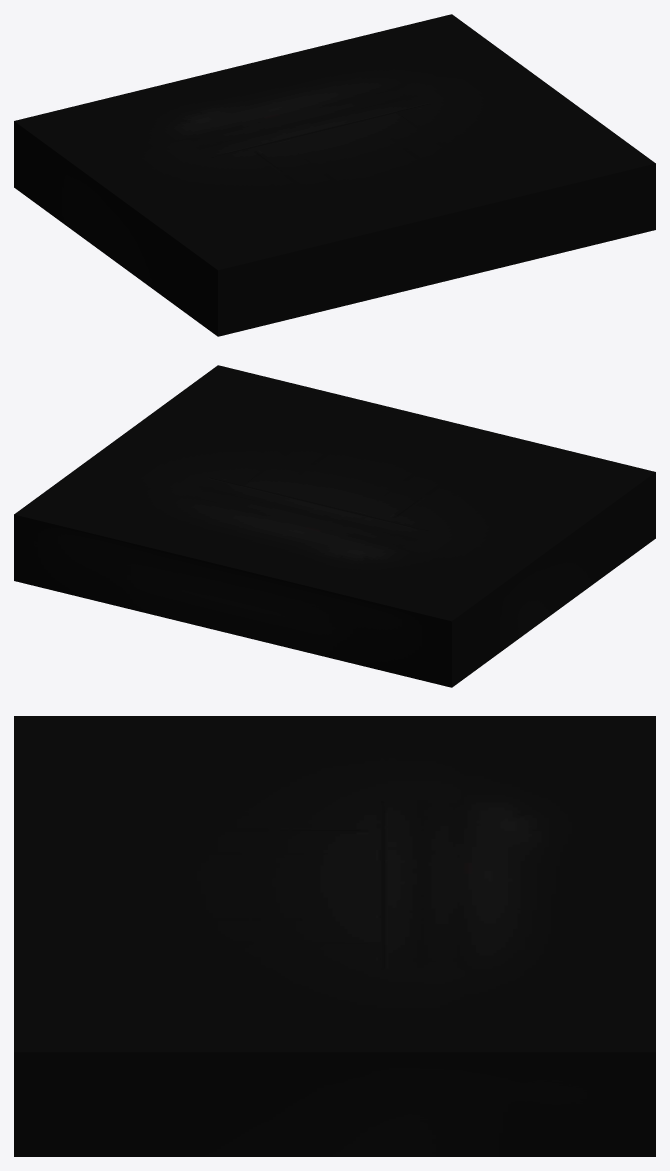
3 renders of one model, top to bottom at view 1: azimuth 30°, elevation 25°; view 2: azimuth 150°, elevation 25°; view 3: azimuth 270°, elevation 25°, orthographic. The views are drawn at different scales.
Visible parts, largest first — view 1: house; view 2: house; view 3: house.
Boxes of the visible parts, left/top/right/bottom form: house: left=14, top=14, right=655, bottom=336; house: left=14, top=365, right=655, bottom=687; house: left=14, top=716, right=655, bottom=1156.
Bounding box in the file's own units: 7399 × 1073 × 5971.
